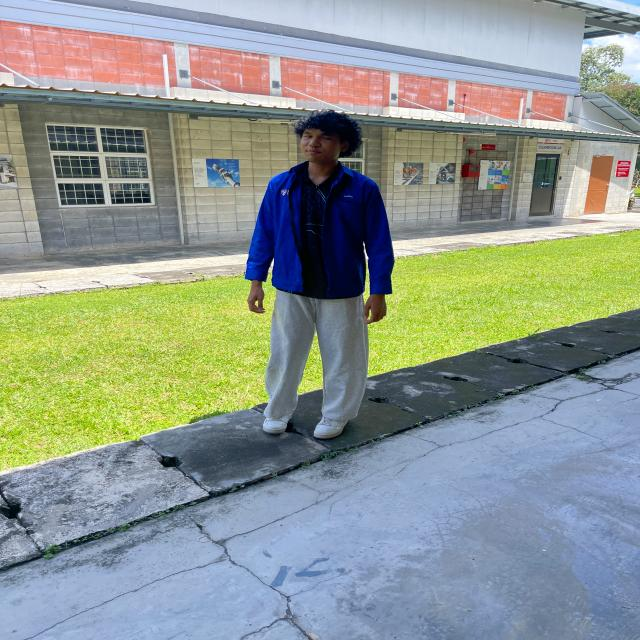person_with_labcoat: (246, 110, 394, 440)
